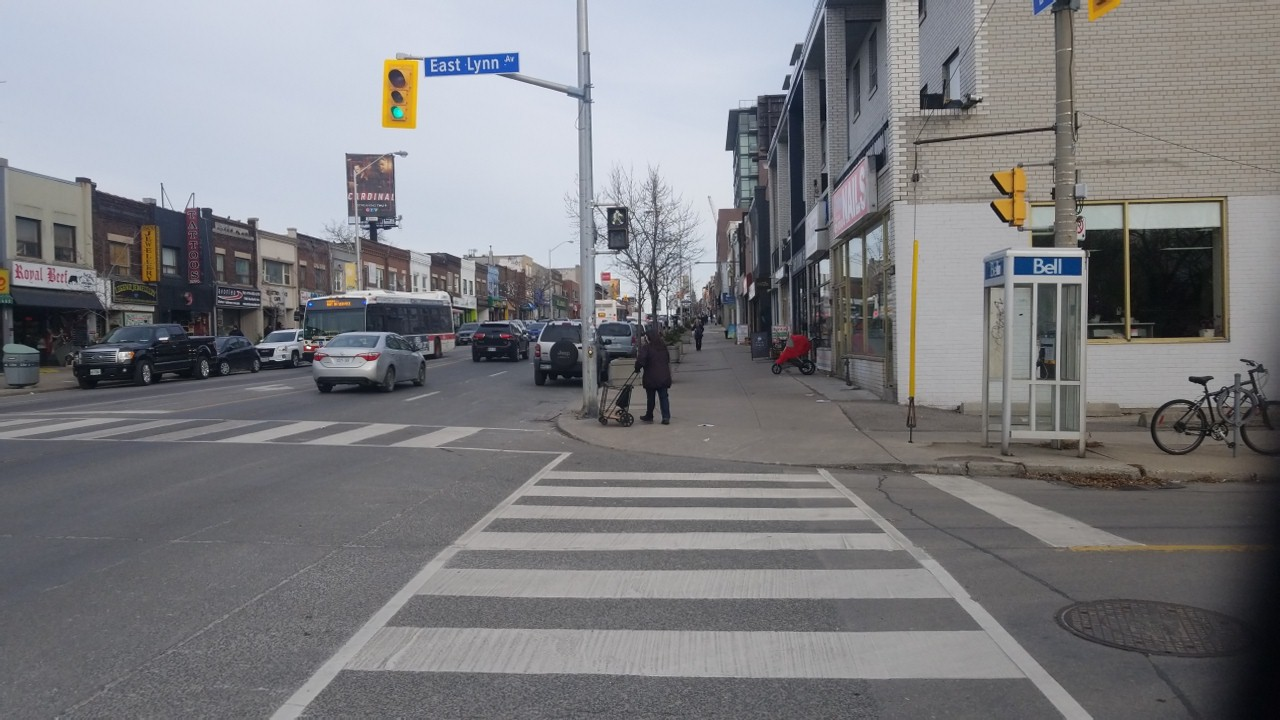light: (602, 201, 634, 255)
